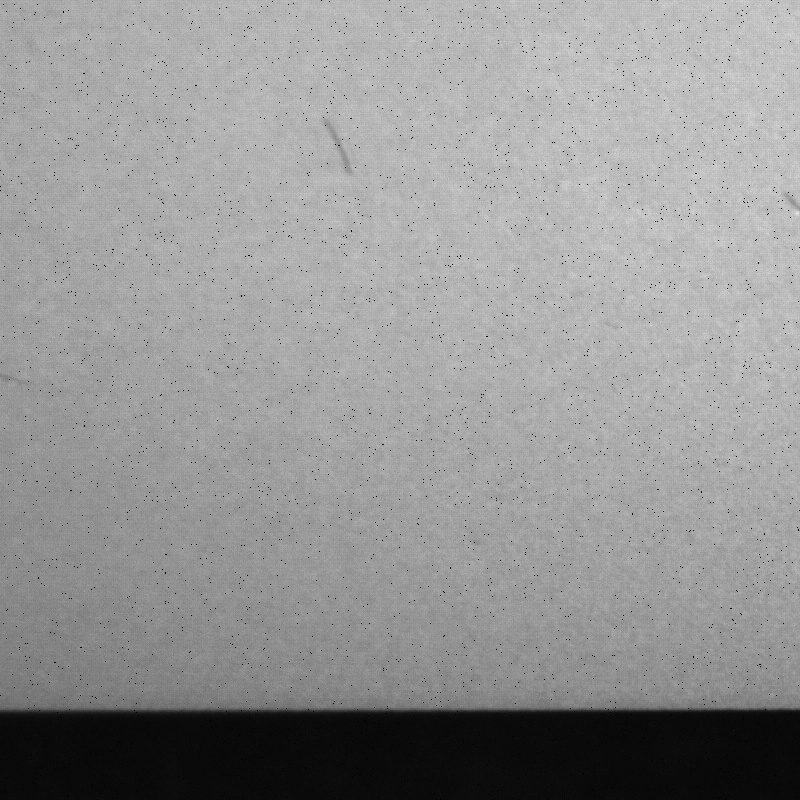defect: (317, 108, 359, 178), (781, 187, 800, 216)
